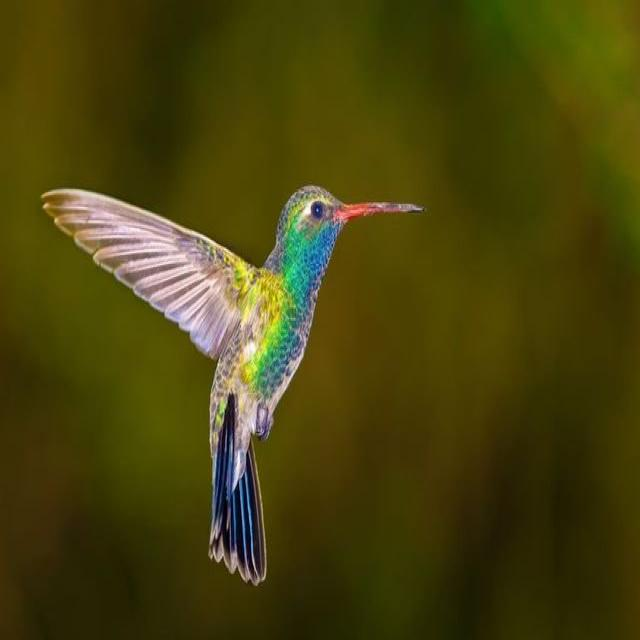Humming Bird: (37, 170, 427, 576)
